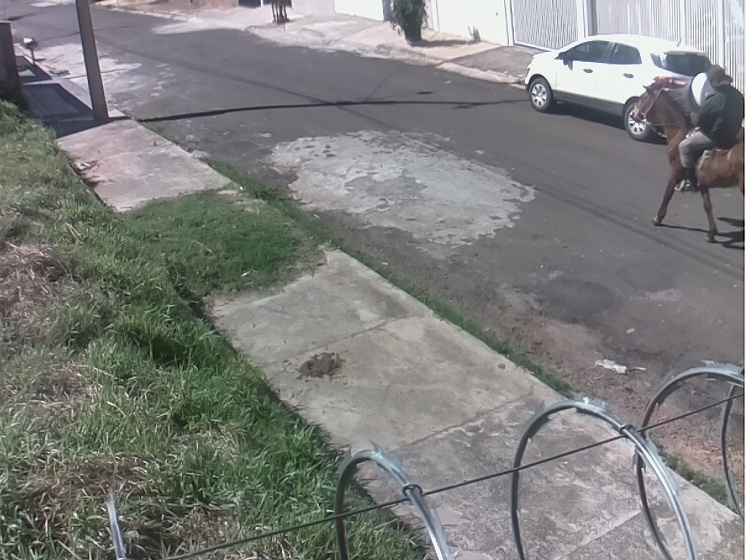person: (673, 66, 742, 193)
